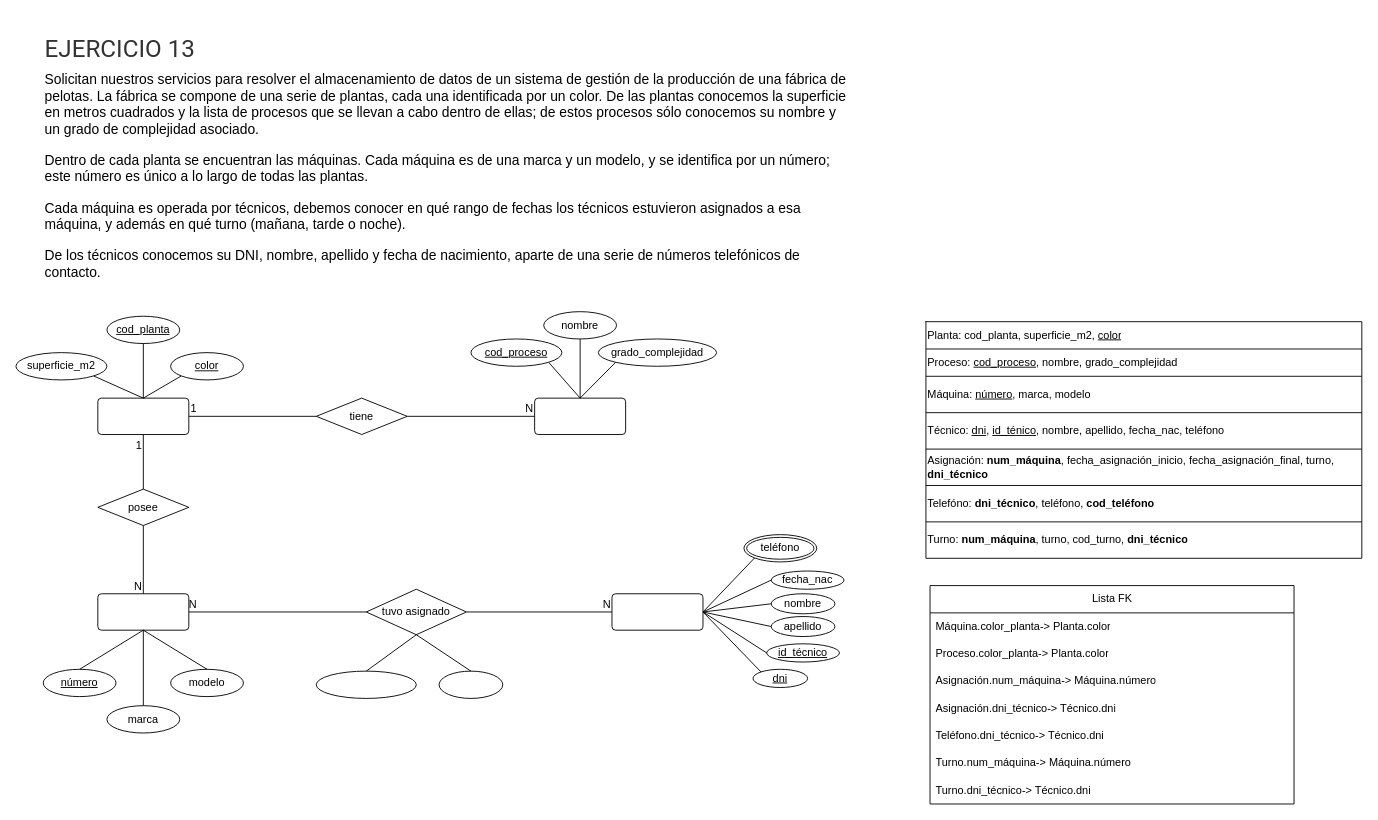
This 1378x820 diagram has some shape labels left out. The shapes that lost their labels are listed below. From the top down, each one's centre as x and y in pixels, then its label:
[143,416]: Planta
[580,416]: Proceso
[143,611]: Máquina
[657,611]: Técnico
[365,684]: fecha_asignación
[470,684]: turno
